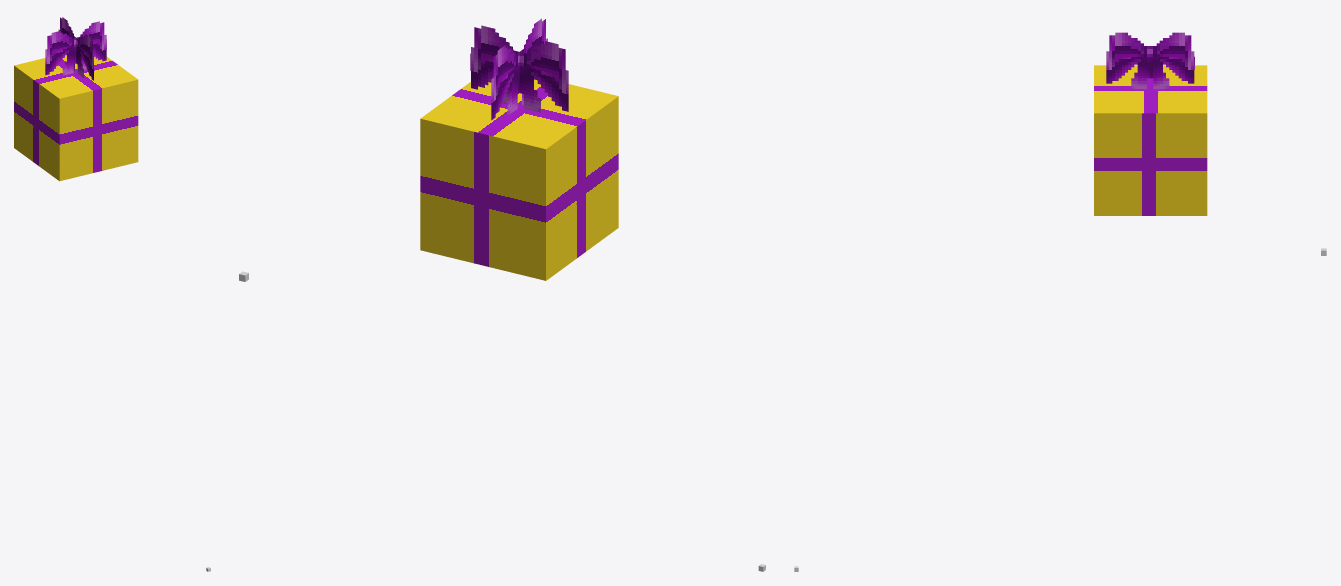
File: YellowPurple.FBX
The picture shows the model from 3 angles, left to right: view 1: azimuth 30°, elevation 25°; view 2: azimuth 150°, elevation 25°; view 3: azimuth 270°, elevation 25°; orthographic projection. The views are drawn at different scales.
Visible parts, largest first — view 1: PresentYellow; view 2: PresentYellow; view 3: PresentYellow.
Part boxes in pixels (x1,y1,x2,y2): PresentYellow: (14,17,138,181); PresentYellow: (420,18,618,280); PresentYellow: (1094,32,1207,215).
Bounding box in the file's own units: 733 × 2121 × 1878.
Materials: 1 (1 with a texture image).
